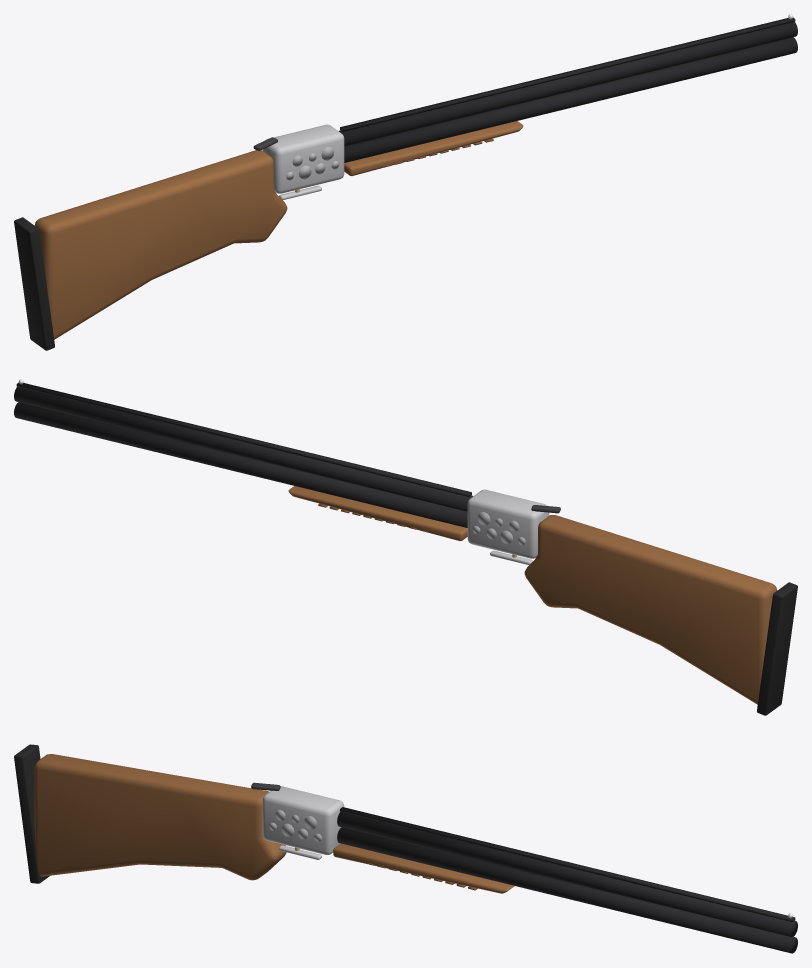
The model's file is SM_OverUnder.glb.
3 views of the same model, one above another, from view 1: azimuth 30°, elevation 25°; view 2: azimuth 150°, elevation 25°; view 3: azimuth 330°, elevation 25° (orthographic).
Visible parts, largest first — view 1: SM_OverUnder; view 2: SM_OverUnder; view 3: SM_OverUnder.
Boxes of the visible parts, x1,y1,x2,y2 form: SM_OverUnder: (14, 14, 797, 350); SM_OverUnder: (14, 379, 797, 715); SM_OverUnder: (14, 744, 797, 953).
Size of the model in its own units: 1.23 by 0.2248 by 0.0505.
